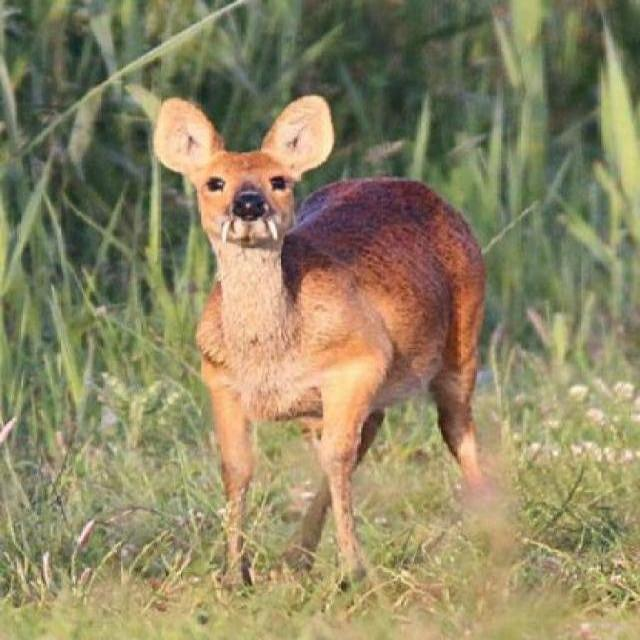deer: (134, 79, 518, 598)
